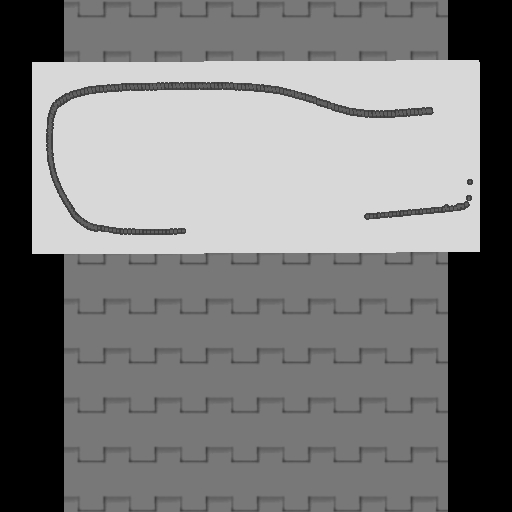Defect: (186, 210, 366, 234)
